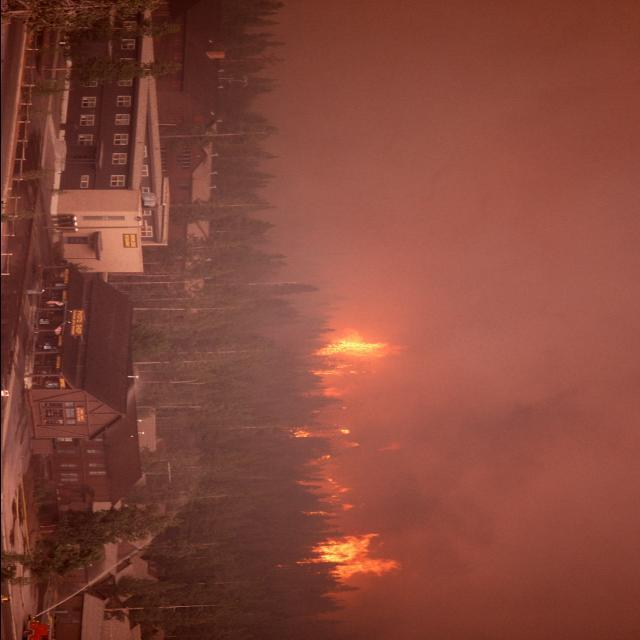Fire: (300, 325, 402, 587)
